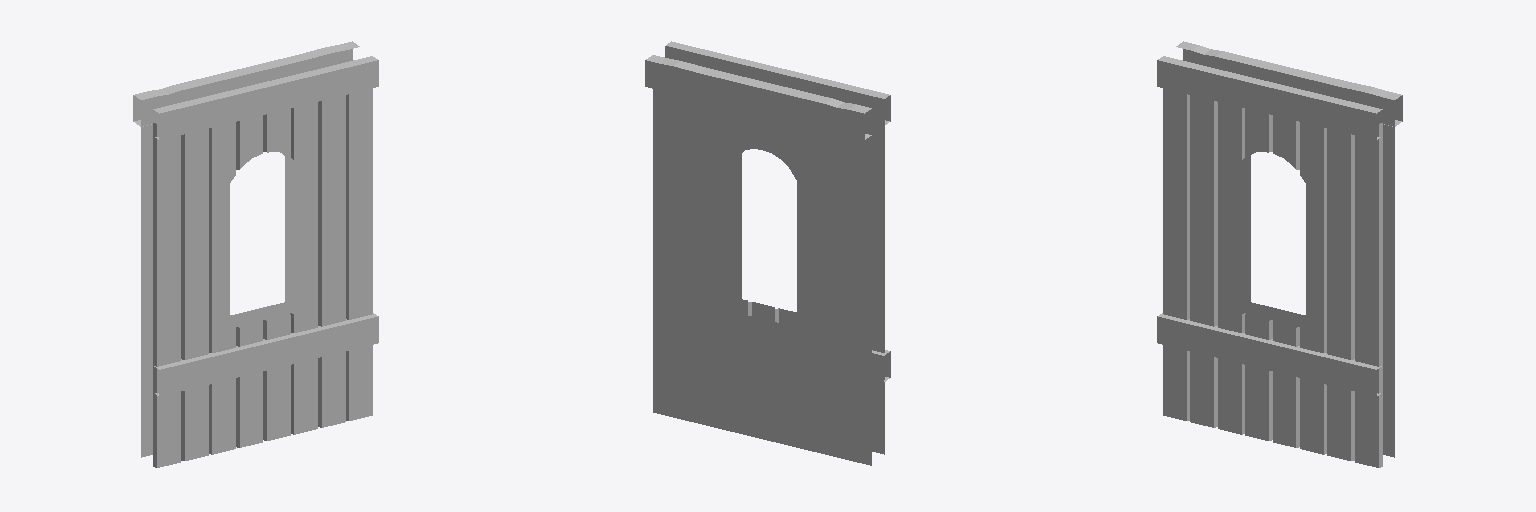
File: Wall_WoodWear_Window_Thin_Round.obj
3 views of the same model, side by side, from view 1: azimuth 30°, elevation 25°; view 2: azimuth 150°, elevation 25°; view 3: azimuth 330°, elevation 25° (orthographic).
Visible parts, largest first — view 1: Wall_WoodWear_Window_Thin_Round; view 2: Wall_WoodWear_Window_Thin_Round; view 3: Wall_WoodWear_Window_Thin_Round.
Part boxes in pixels (x1,y1,x2,y2): Wall_WoodWear_Window_Thin_Round: (133, 41, 378, 467); Wall_WoodWear_Window_Thin_Round: (645, 41, 890, 465); Wall_WoodWear_Window_Thin_Round: (1157, 41, 1402, 467).
Bounding box in the file's own units: 2 × 3.12 × 0.4065.